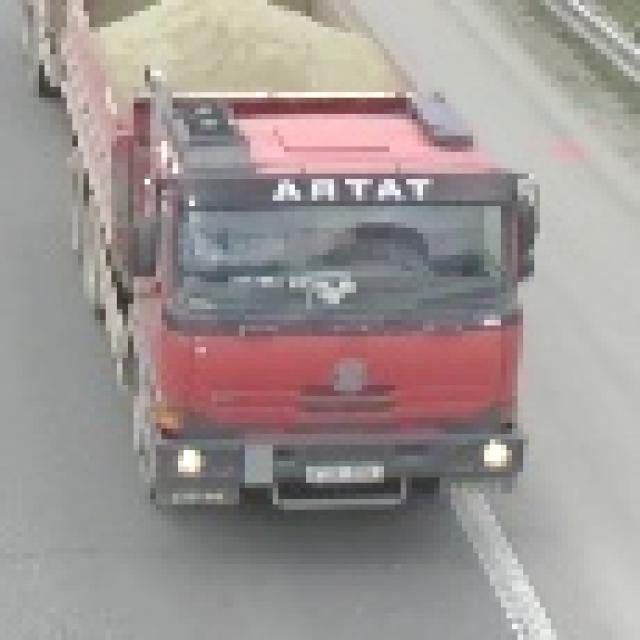truck: (18, 1, 535, 527)
